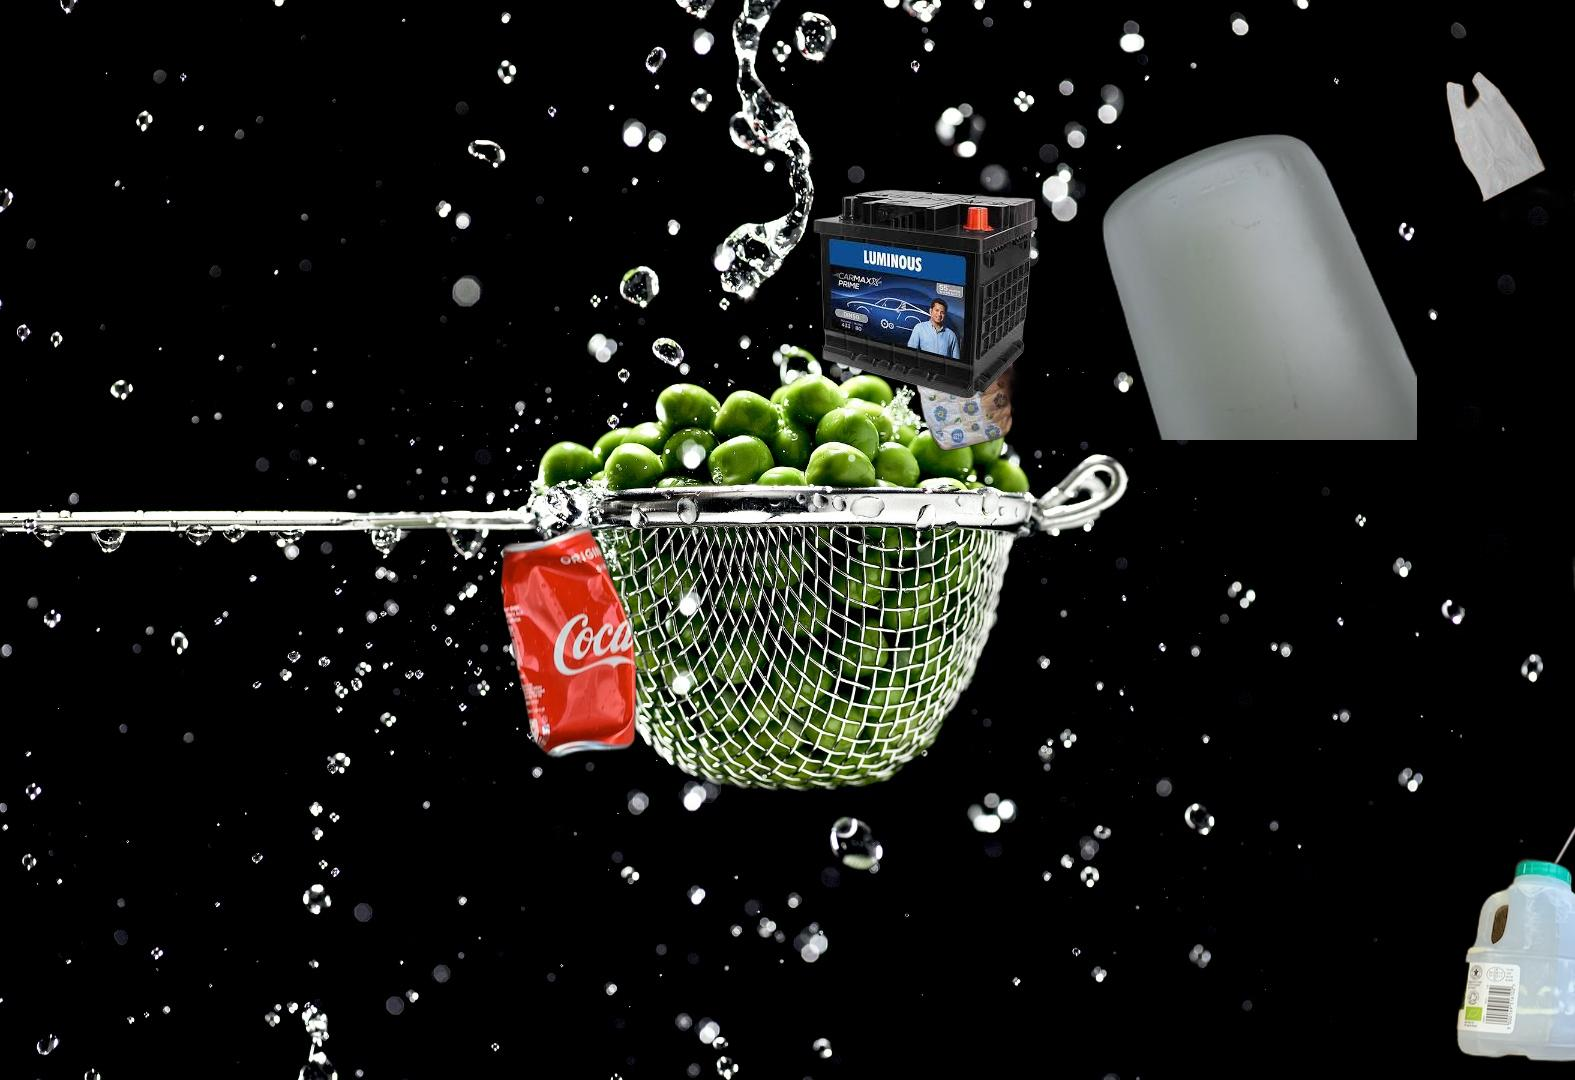battery: (811, 187, 1040, 398)
glass: (1097, 131, 1417, 439)
metal-cans: (495, 521, 641, 763)
plastic-bag: (1443, 56, 1575, 356)
plastic-bottles: (1509, 336, 1575, 1005), (1453, 830, 1575, 1069)
trash: (762, 260, 1024, 453)
